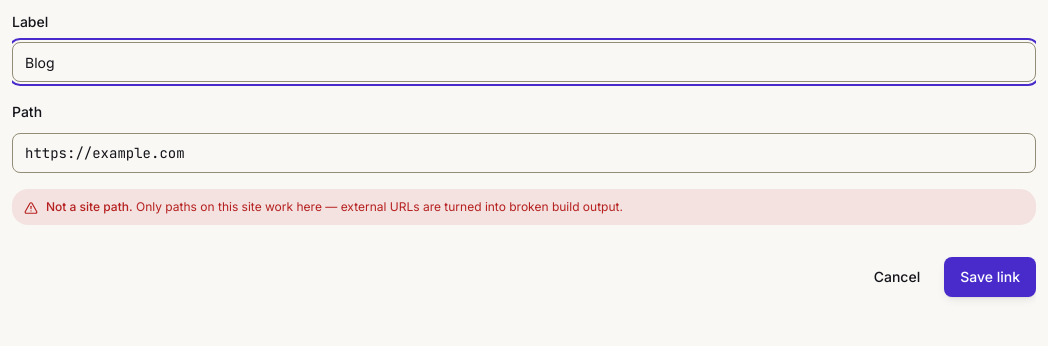
Test case: NavLinkForm › rejects an external URL rather than building a broken path
Click the button "Save link" at (990, 277), box [944, 257, 1036, 297]
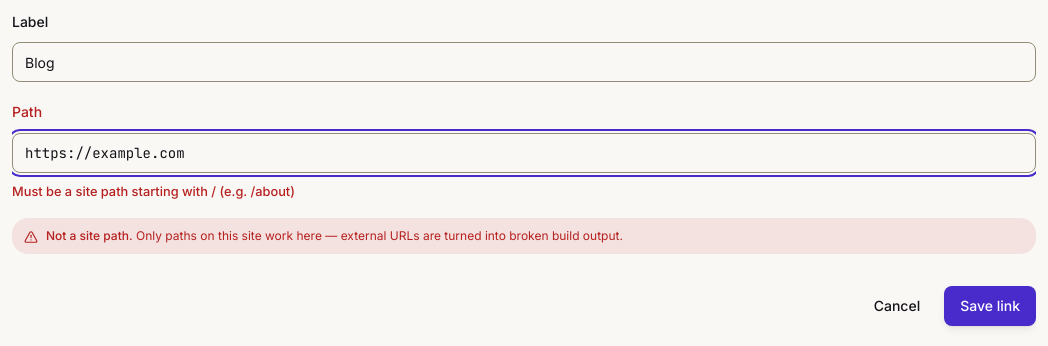
Expected: the text "Must be a site path starting with / (e.g. /about)" is shown, [12, 184, 295, 199]
